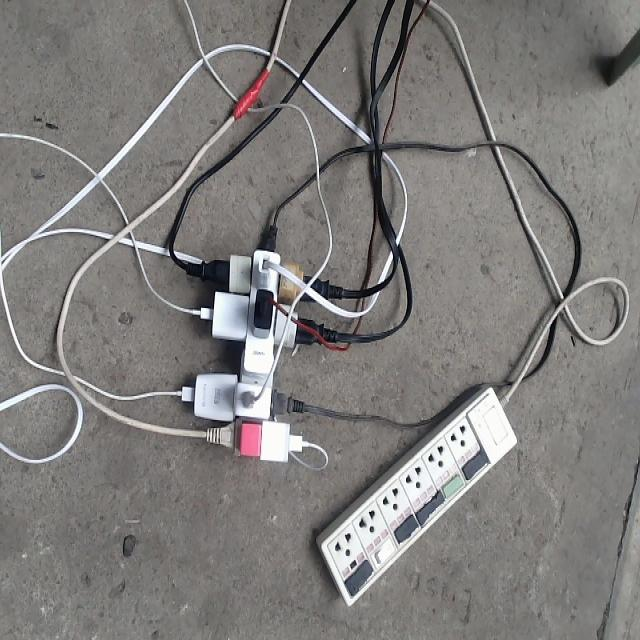-: (149, 189, 351, 479)
